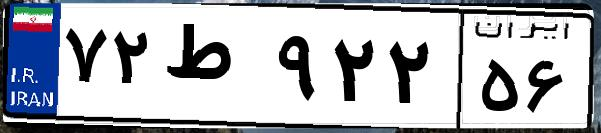2: (385, 28, 445, 110), (330, 28, 385, 110), (110, 28, 158, 98)
5: (475, 38, 525, 113)
6: (525, 38, 570, 115)
7: (57, 26, 110, 100)
9: (270, 28, 330, 110)
ط: (158, 20, 270, 120)
